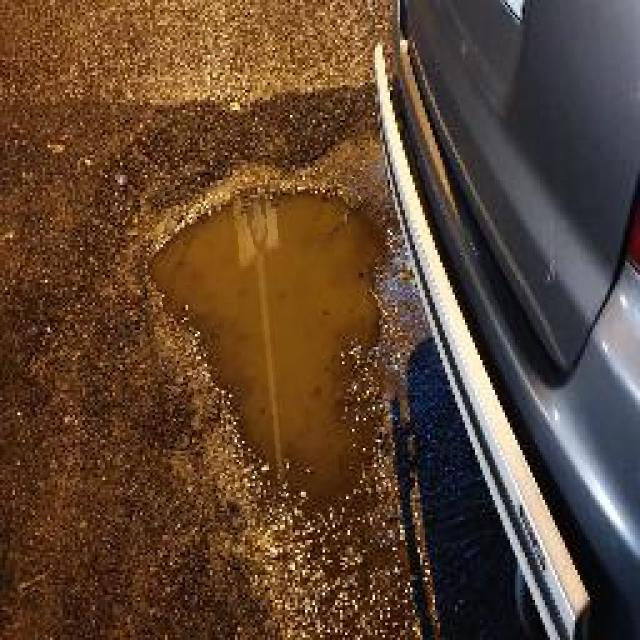puddle: (146, 181, 391, 523)
